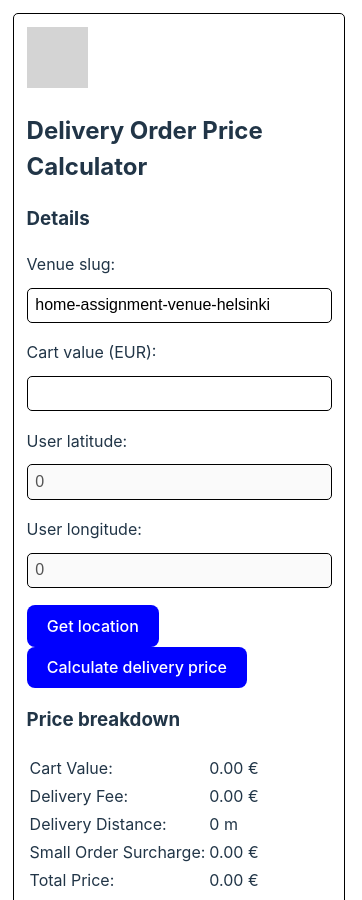
Scenario: Main test suite › Empty cart value gives a validation error
Step 1. Click the button "Calculate delivery price" → (137, 667), box top-left (27, 646), bottom-right (247, 688)
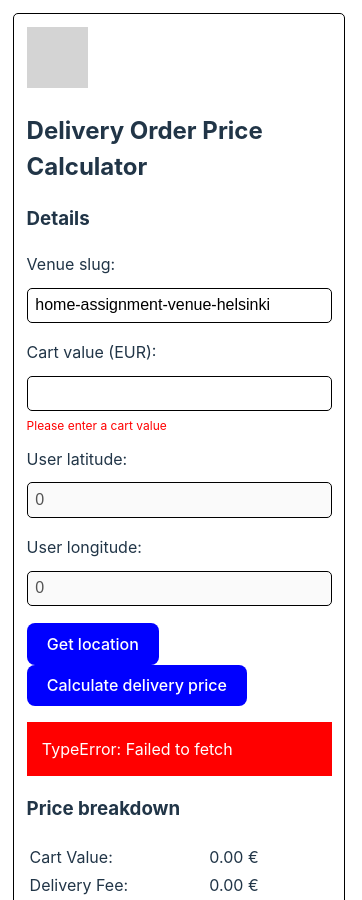
Expected: the text with test id "error-cart-value" reads "Please enter a cart value", top-left (27, 418), bottom-right (167, 433)
